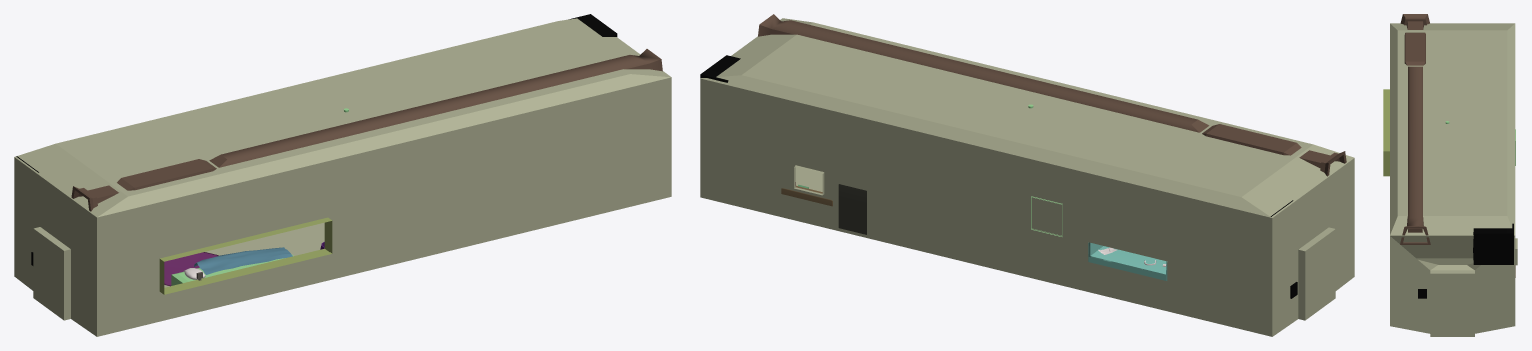
File: hallway3.fbx
The picture shows the model from 3 angles, left to right: view 1: azimuth 30°, elevation 25°; view 2: azimuth 150°, elevation 25°; view 3: azimuth 270°, elevation 25°; orthographic projection. The views are drawn at different scales.
Visible parts, largest first — view 1: pCube2, pCube43, pCube54, pPlane5, pCube79; view 2: pCube2, pCube43, pCube3, pCube45; view 3: pCube2, pCube43, pCube5, pCube54.
Part boxes in pixels (x1=…): pCube2: x1=14, y1=18, x2=671, y2=336; pCube43: x1=71, y1=49, x2=662, y2=211; pCube54: x1=159, y1=217, x2=332, y2=294; pPlane5: x1=194, y1=247, x2=292, y2=274; pCube79: x1=164, y1=252, x2=218, y2=286; pCube2: x1=700, y1=18, x2=1354, y2=336; pCube43: x1=758, y1=14, x2=1346, y2=176; pCube3: x1=1088, y1=242, x2=1167, y2=280; pCube45: x1=838, y1=184, x2=866, y2=234; pCube2: x1=1390, y1=23, x2=1517, y2=336; pCube43: x1=1400, y1=14, x2=1430, y2=244; pCube5: x1=1473, y1=223, x2=1513, y2=264; pCube54: x1=1383, y1=89, x2=1389, y2=176.
Size of the model in its own units: 61.67 by 14.25 by 16.09.
